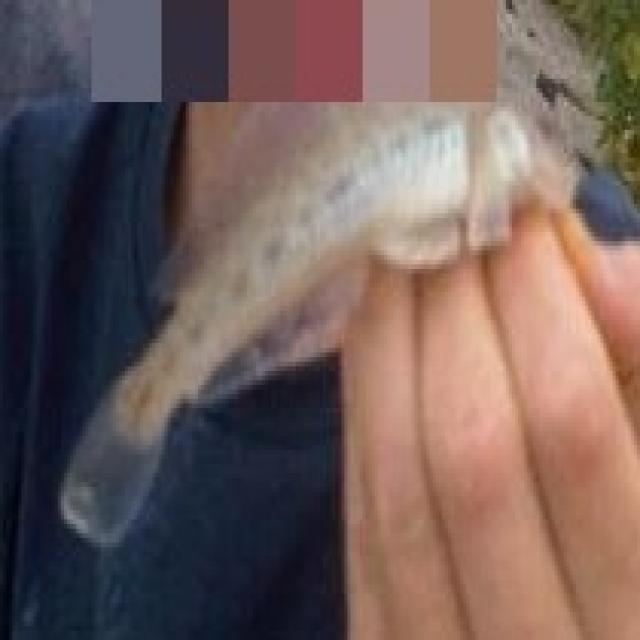Goby: (94, 72, 572, 569)
